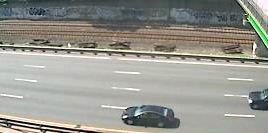car: (120, 104, 178, 129)
